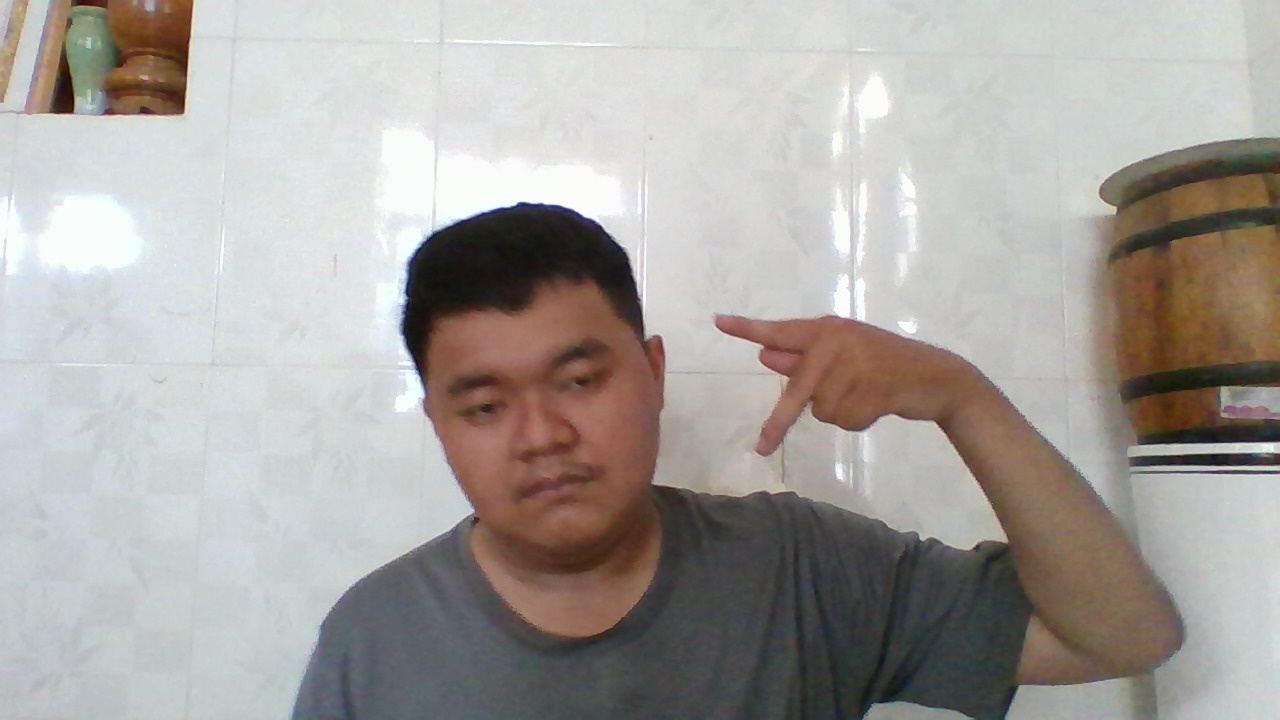P: (704, 304, 968, 466)
